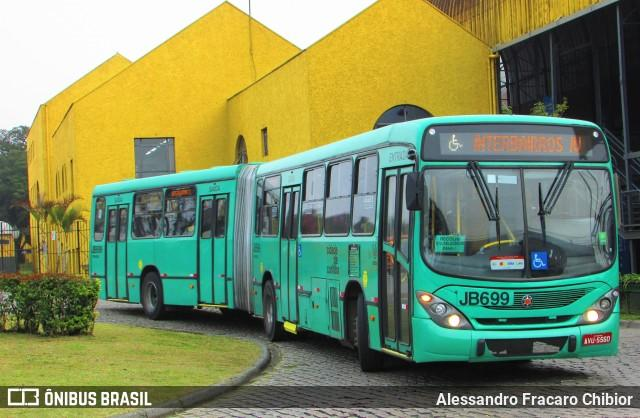INTERBAIRROS IV: (469, 132, 584, 156)
